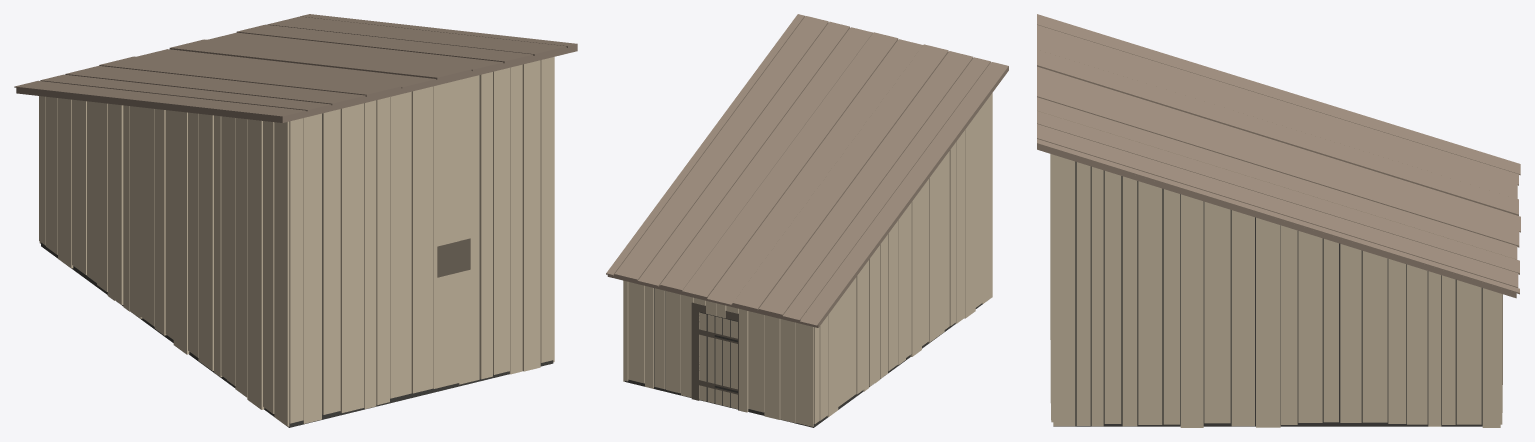
Rendered from recon_1835_north_d2_091__inferred_1835.glb.
3 renders of one model, left to right at view 1: azimuth 30°, elevation 25°; view 2: azimuth 150°, elevation 25°; view 3: azimuth 270°, elevation 25°, orthographic. The views are drawn at different scales.
Visible parts, largest first — view 1: recon_1835_north_d2_091__inferred_1835; view 2: recon_1835_north_d2_091__inferred_1835; view 3: recon_1835_north_d2_091__inferred_1835.
Part boxes in pixels (bbox=[...]): recon_1835_north_d2_091__inferred_1835: bbox=[14, 14, 577, 427]; recon_1835_north_d2_091__inferred_1835: bbox=[606, 14, 1008, 427]; recon_1835_north_d2_091__inferred_1835: bbox=[1037, 14, 1520, 427].
Size of the model in its own units: 4.66 by 4.88 by 7.35.
